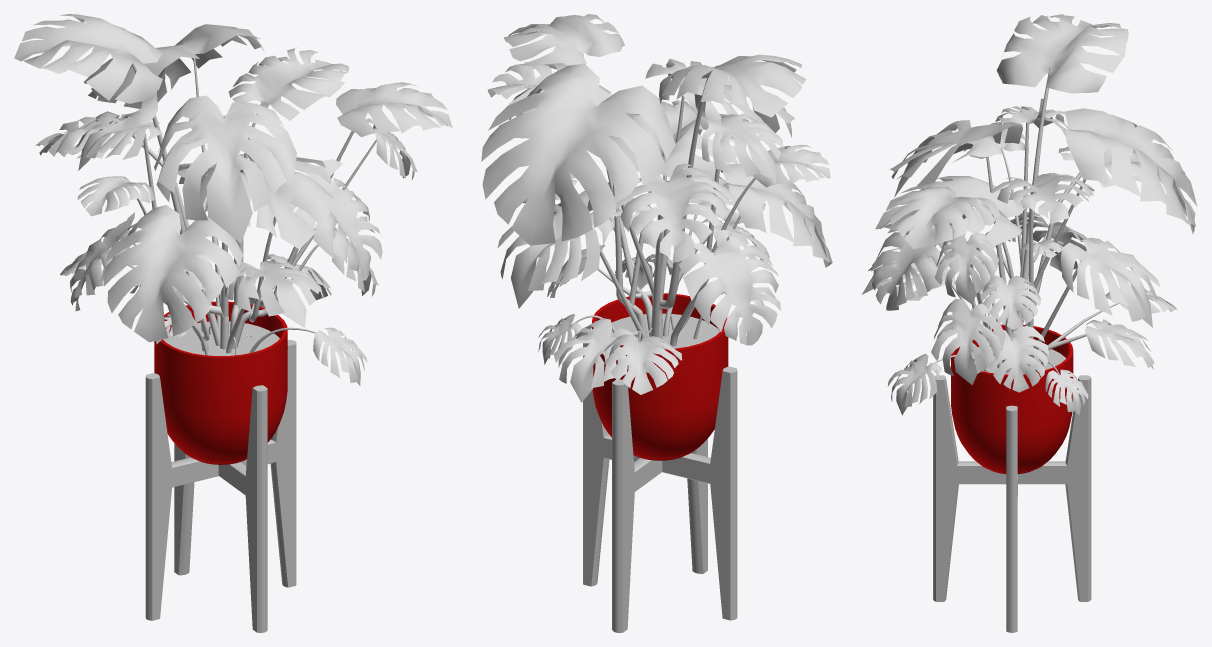
File: Plant Monstera Deliciosa.fbx
The picture shows the model from 3 angles, left to right: view 1: azimuth 30°, elevation 25°; view 2: azimuth 150°, elevation 25°; view 3: azimuth 270°, elevation 25°; orthographic projection. The views are drawn at different scales.
Visible parts, largest first — view 1: Plant_Monstera_Deliciosa, Vase; view 2: Plant_Monstera_Deliciosa, Vase; view 3: Plant_Monstera_Deliciosa, Vase.
Part boxes in pixels (left/top/right/bottom): Plant_Monstera_Deliciosa: left=14, top=14, right=452, bottom=385; Vase: left=145, top=301, right=296, bottom=632; Plant_Monstera_Deliciosa: left=481, top=14, right=832, bottom=402; Vase: left=583, top=293, right=737, bottom=632; Plant_Monstera_Deliciosa: left=861, top=14, right=1197, bottom=415; Vase: left=933, top=324, right=1091, bottom=632.
Bounding box in the file's own units: 101 × 158 × 91.62.
